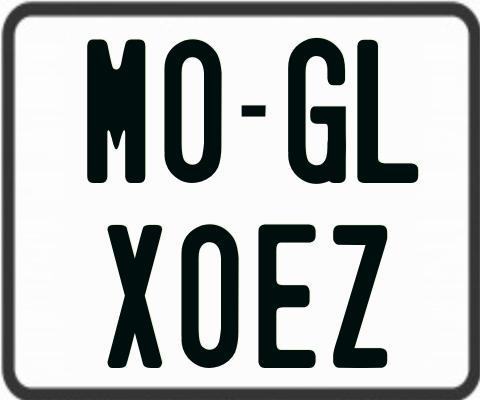0: (178, 222, 241, 370), (164, 38, 223, 182)
E: (255, 222, 315, 372)
G: (286, 35, 344, 187)
L: (354, 37, 420, 185)
M: (84, 39, 147, 189)
X: (105, 225, 164, 368)
Z: (333, 225, 387, 372)
